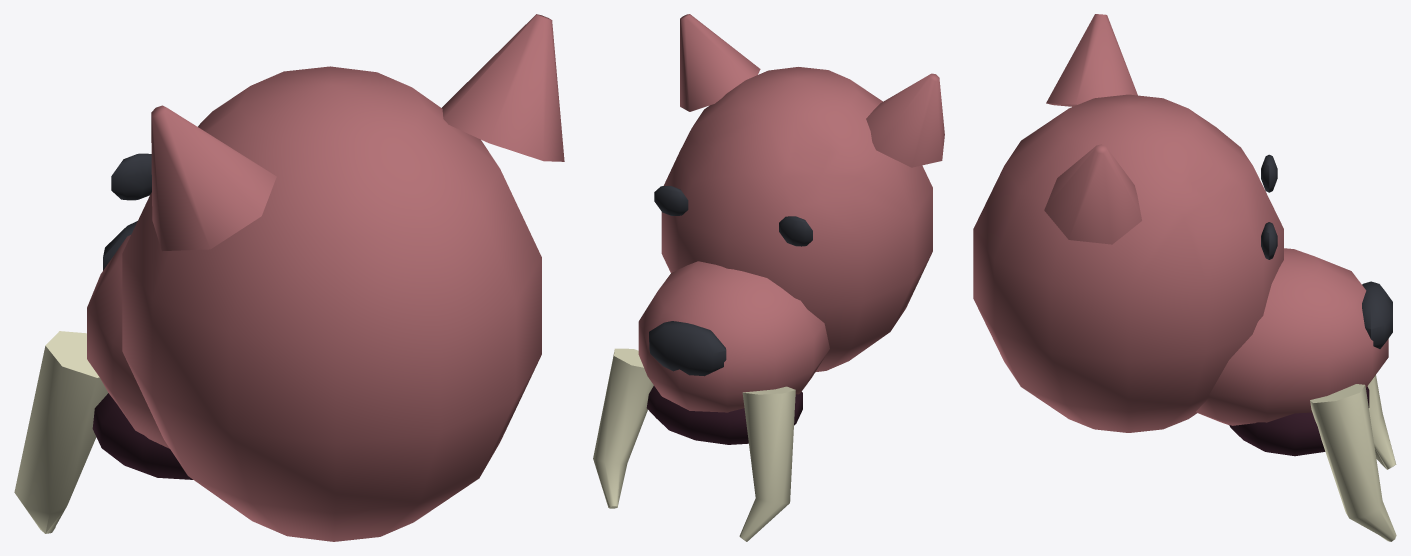
The model's file is chimera_a_head.obj.
3 views of the same model, side by side, from view 1: azimuth 30°, elevation 25°; view 2: azimuth 150°, elevation 25°; view 3: azimuth 270°, elevation 25° (orthographic). The views are drawn at different scales.
Parts seen in each view (by area): view 1: source_component_000, source_component_006, source_component_007, source_component_008, source_component_001, source_component_005, source_component_003; view 2: source_component_000, source_component_001, source_component_007, source_component_009, source_component_006, source_component_008, source_component_002, source_component_005, source_component_003, source_component_004; view 3: source_component_000, source_component_001, source_component_009, source_component_008, source_component_006, source_component_005, source_component_002, source_component_007.
Boxes of the visible parts, <box> form: source_component_000: <box>122,66,541,541</box>; source_component_006: <box>151,105,276,251</box>; source_component_007: <box>14,331,108,533</box>; source_component_008: <box>442,14,564,161</box>; source_component_001: <box>87,235,169,448</box>; source_component_005: <box>92,393,192,479</box>; source_component_003: <box>111,153,151,200</box>; source_component_000: <box>661,67,932,372</box>; source_component_001: <box>638,261,829,412</box>; source_component_007: <box>739,386,795,541</box>; source_component_009: <box>593,348,653,508</box>; source_component_006: <box>866,73,944,167</box>; source_component_008: <box>680,14,760,111</box>; source_component_002: <box>649,321,726,376</box>; source_component_005: <box>646,386,802,444</box>; source_component_003: <box>779,216,812,246</box>; source_component_004: <box>654,186,688,215</box>; source_component_000: <box>973,94,1283,432</box>; source_component_001: <box>1196,248,1388,425</box>; source_component_009: <box>1310,384,1396,541</box>; source_component_008: <box>1044,144,1141,244</box>; source_component_006: <box>1046,14,1137,106</box>; source_component_005: <box>1229,386,1369,456</box>; source_component_002: <box>1362,281,1392,348</box>; source_component_007: <box>1367,375,1396,469</box>.
Bounding box in the file's own units: 0.4754 × 0.679 × 0.6111.
